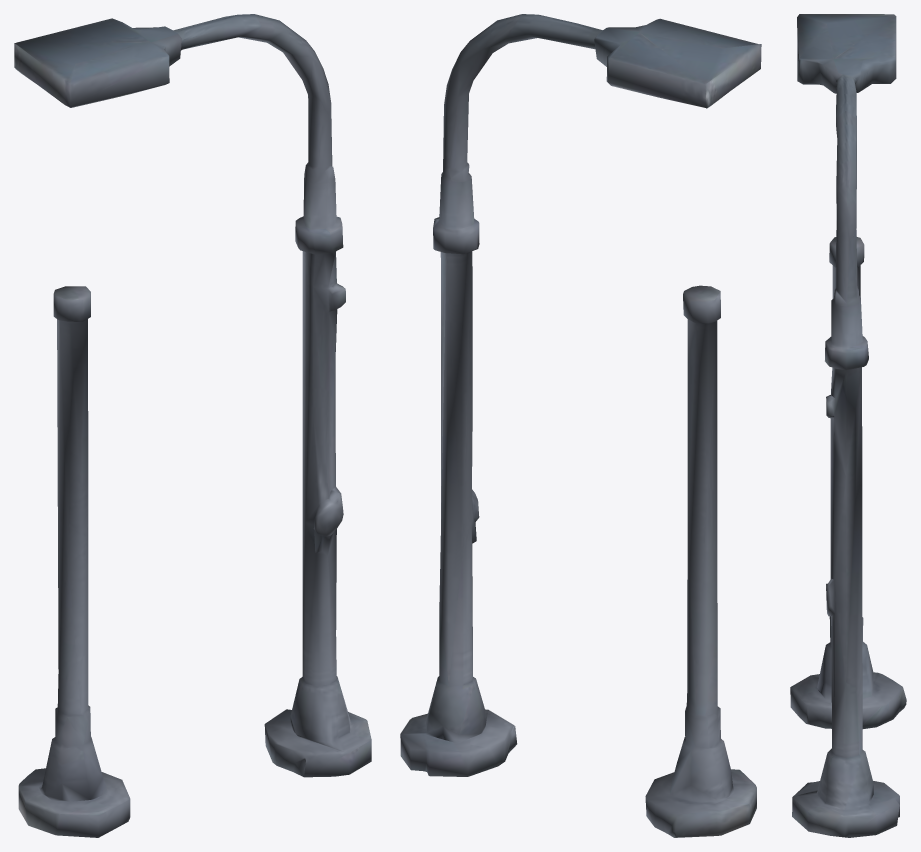
File: prop3d-streetlamp.glb
The picture shows the model from 3 angles, left to right: view 1: azimuth 30°, elevation 25°; view 2: azimuth 150°, elevation 25°; view 3: azimuth 270°, elevation 25°; orthographic projection. The views are drawn at different scales.
Bounding box in the file's own units: 0.9368 × 2 × 0.3088.
1 material, 1 textured.
